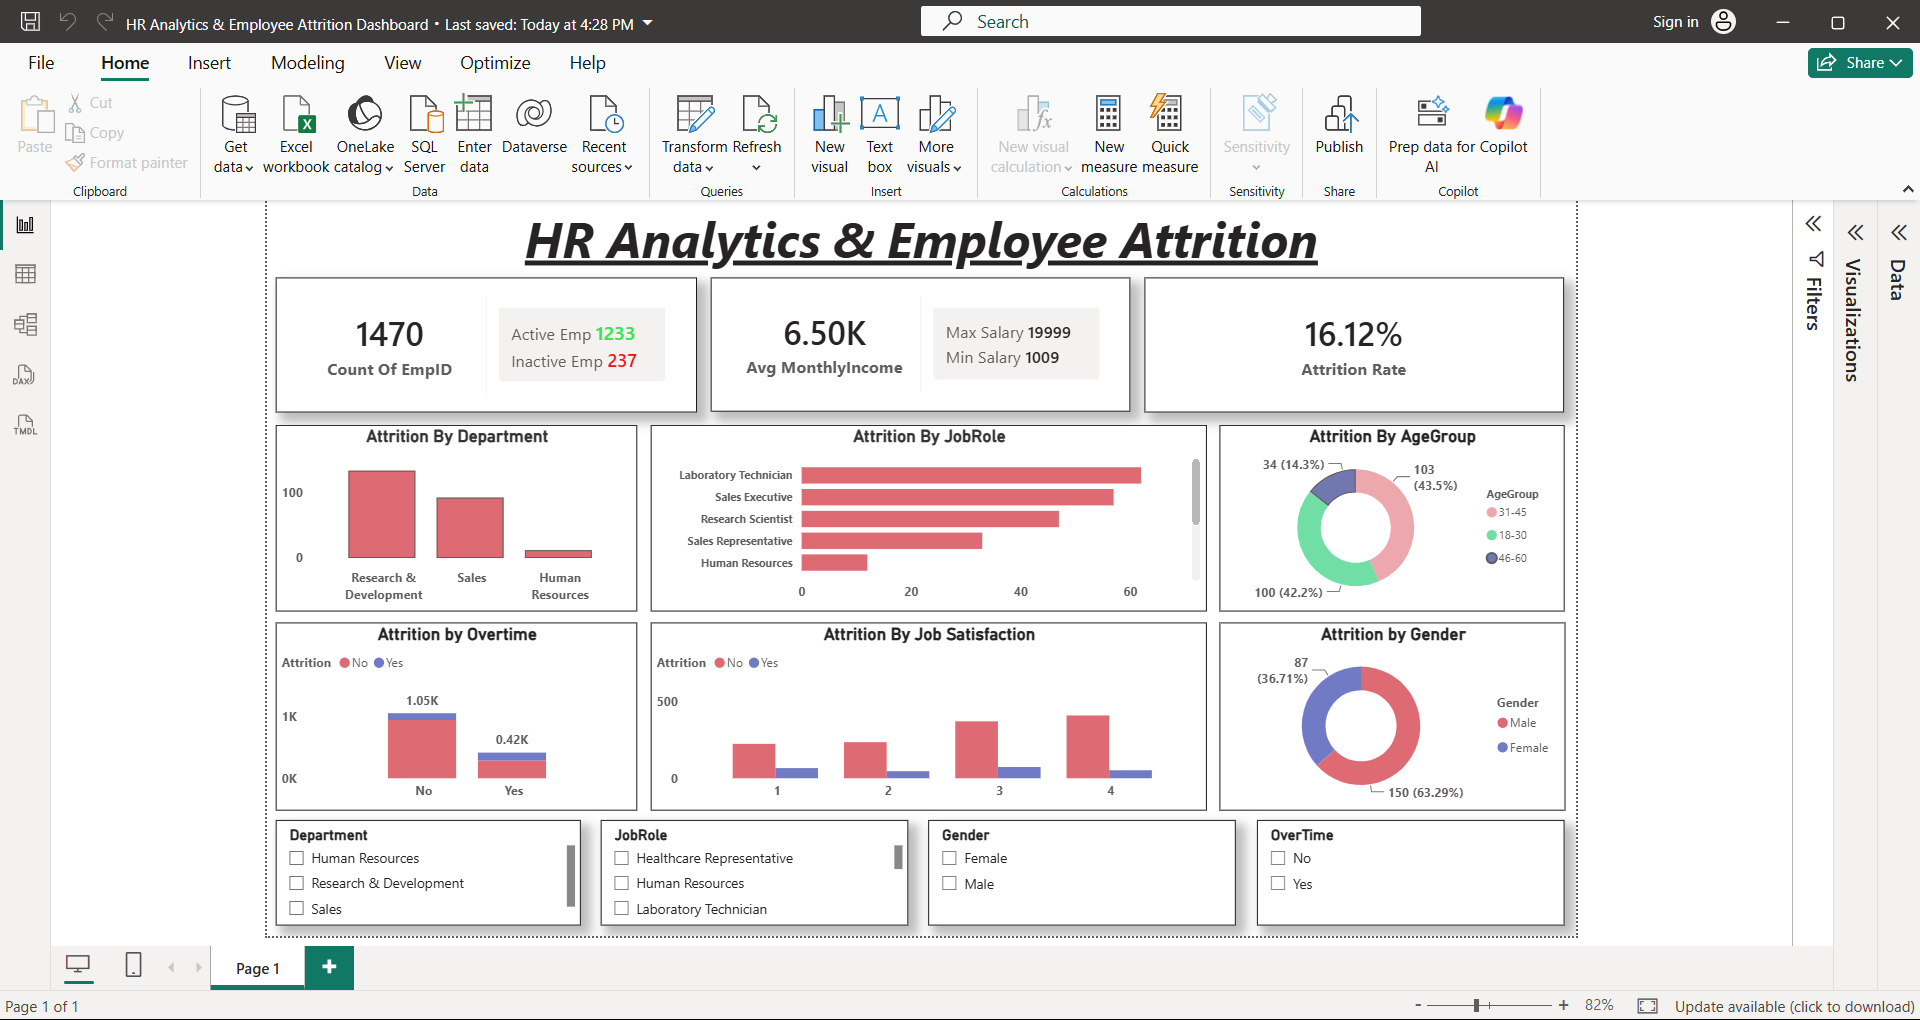

The dashboard page shown, as its layout file describes it:
{"tool":"powerbi","page":{"name":"Page 1","canvas":[1280,720],"ordinal":0},"visuals":[{"type":"textbox","box":[0,0,1280.3,90.6],"z":0},{"type":"cardVisual","fields":{"Data":["CountNonNull(hr_attrition.EmployeeCount)"]},"box":[8.8,75.5,411.6,132.2],"z":1000},{"type":"cardVisual","fields":{"Data":["Avg(hr_attrition.MonthlyIncome)"]},"box":[434.3,75.5,410.4,130.9],"z":2000},{"type":"cardVisual","fields":{"Data":["hr_attrition.Attrition Rate"]},"box":[858.5,75.5,410.4,132.2],"z":3000},{"type":"clusteredColumnChart","title":"Attrition By Department","fields":{"Category":["hr_attrition.Department"],"Y":["hr_attrition.Attrition Count"]},"box":[8.8,220.3,353.7,182.5],"z":4000},{"type":"barChart","title":"Attrition By JobRole","fields":{"Y":["hr_attrition.Attrition Count"],"Category":["hr_attrition.JobRole"]},"box":[375.1,220.3,543.8,182.5],"z":5000},{"type":"donutChart","title":"Attrition By AgeGroup","fields":{"Category":["hr_attrition.AgeGroup"],"Y":["hr_attrition.Attrition Count"]},"box":[931.6,220.3,337.4,182.5],"z":6000},{"type":"columnChart","title":"Attrition by Overtime","fields":{"Category":["hr_attrition.OverTime"],"Y":["CountNonNull(hr_attrition.EmployeeNumber)"],"Series":["hr_attrition.Attrition"]},"box":[8.8,412.9,353.7,183.8],"z":7000},{"type":"clusteredColumnChart","title":"Attrition By Job Satisfaction","fields":{"Series":["hr_attrition.Attrition"],"Category":["hr_attrition.JobSatisfactionLevel"],"Y":["Count(hr_attrition.EmployeeNumber)"]},"box":[375.1,412.9,543.8,183.8],"z":8000},{"type":"donutChart","title":"Attrition by Gender","fields":{"Category":["hr_attrition.Gender"],"Y":["Count(hr_attrition.EmployeeNumber)"]},"box":[931.6,412.9,338.6,183.8],"z":9000},{"type":"slicer","fields":{"Values":["hr_attrition.Department"]},"box":[8.8,606.8,298.3,103.2],"z":10000},{"type":"slicer","fields":{"Values":["hr_attrition.JobRole"]},"box":[326.9,606.8,300.9,103.2],"z":11000},{"type":"slicer","fields":{"Values":["hr_attrition.Gender"]},"box":[647.5,606.8,300.9,103.2],"z":12000},{"type":"slicer","fields":{"Values":["hr_attrition.OverTime"]},"box":[968.1,606.8,300.9,103.2],"z":13000}]}

Visuals, with their boxes on the page's 1280x720 design canvas (x1, y1, x2, y2). These are canvas units, not pixel positions in the 1920x1020 screenshot, which may show the page scaled, cropped or inside an application window:
textbox: pyautogui.locateOnScreen(0, 0, 1280, 91)
cardVisual - CountNonNull(hr_attrition.EmployeeCount): pyautogui.locateOnScreen(9, 76, 420, 208)
cardVisual - Avg(hr_attrition.MonthlyIncome): pyautogui.locateOnScreen(434, 76, 845, 206)
cardVisual - hr_attrition.Attrition Rate: pyautogui.locateOnScreen(858, 76, 1269, 208)
"Attrition By Department" clusteredColumnChart: pyautogui.locateOnScreen(9, 220, 362, 403)
"Attrition By JobRole" barChart: pyautogui.locateOnScreen(375, 220, 919, 403)
"Attrition By AgeGroup" donutChart: pyautogui.locateOnScreen(932, 220, 1269, 403)
"Attrition by Overtime" columnChart: pyautogui.locateOnScreen(9, 413, 362, 597)
"Attrition By Job Satisfaction" clusteredColumnChart: pyautogui.locateOnScreen(375, 413, 919, 597)
"Attrition by Gender" donutChart: pyautogui.locateOnScreen(932, 413, 1270, 597)
slicer - hr_attrition.Department: pyautogui.locateOnScreen(9, 607, 307, 710)
slicer - hr_attrition.JobRole: pyautogui.locateOnScreen(327, 607, 628, 710)
slicer - hr_attrition.Gender: pyautogui.locateOnScreen(648, 607, 948, 710)
slicer - hr_attrition.OverTime: pyautogui.locateOnScreen(968, 607, 1269, 710)
